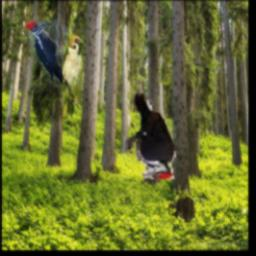Sparrow: (63, 35, 84, 125)
Woodpecker: (111, 84, 175, 179), (24, 19, 67, 90)
